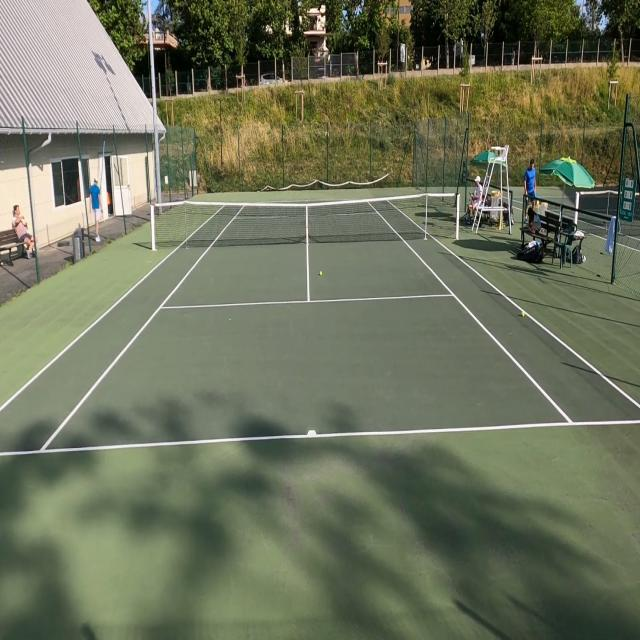ball: (521, 310, 525, 318), (319, 270, 323, 276)
